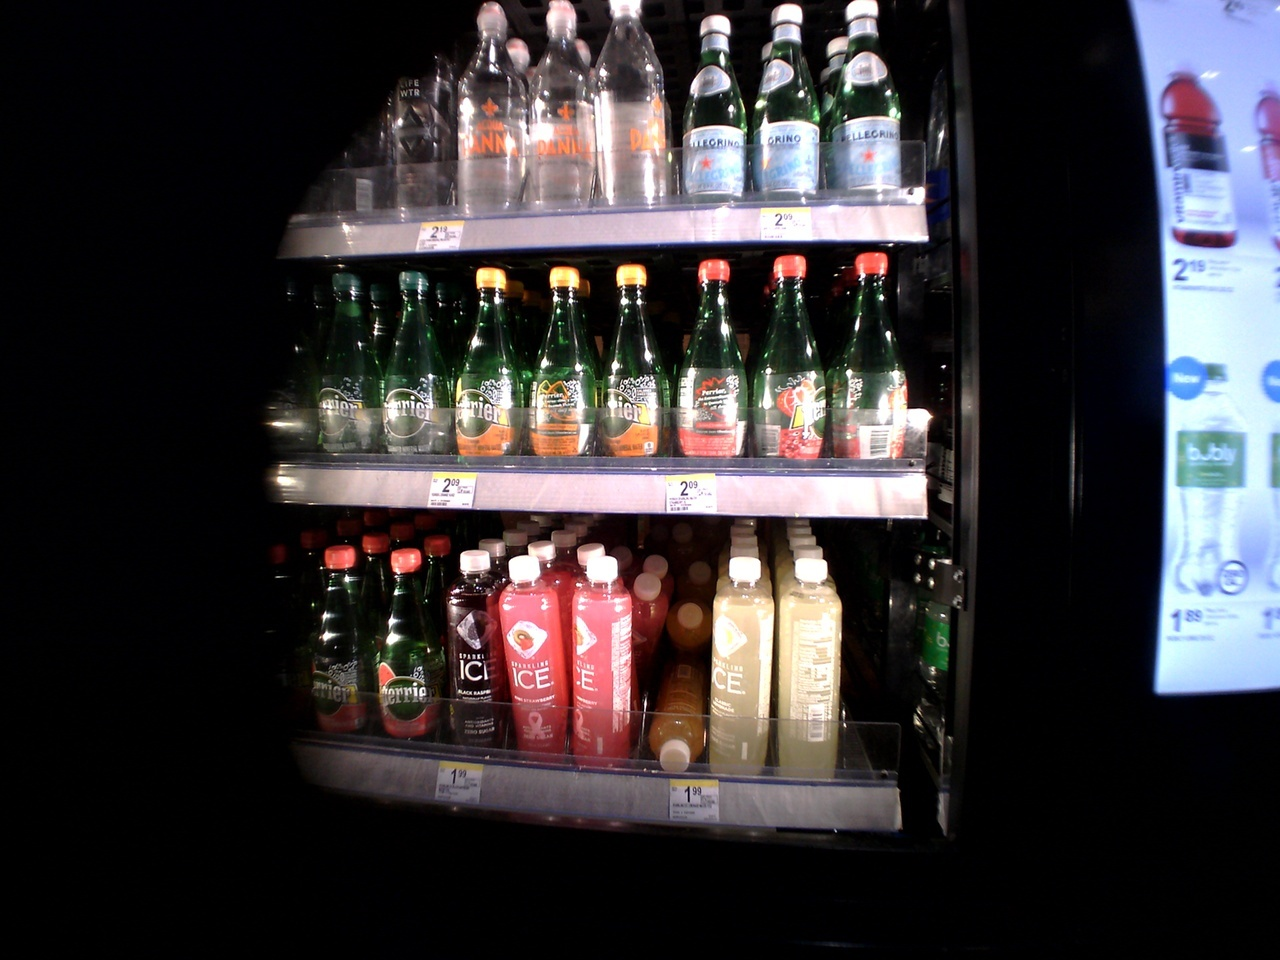shelf: (272, 507, 891, 832), (249, 257, 946, 521), (272, 7, 942, 264)
